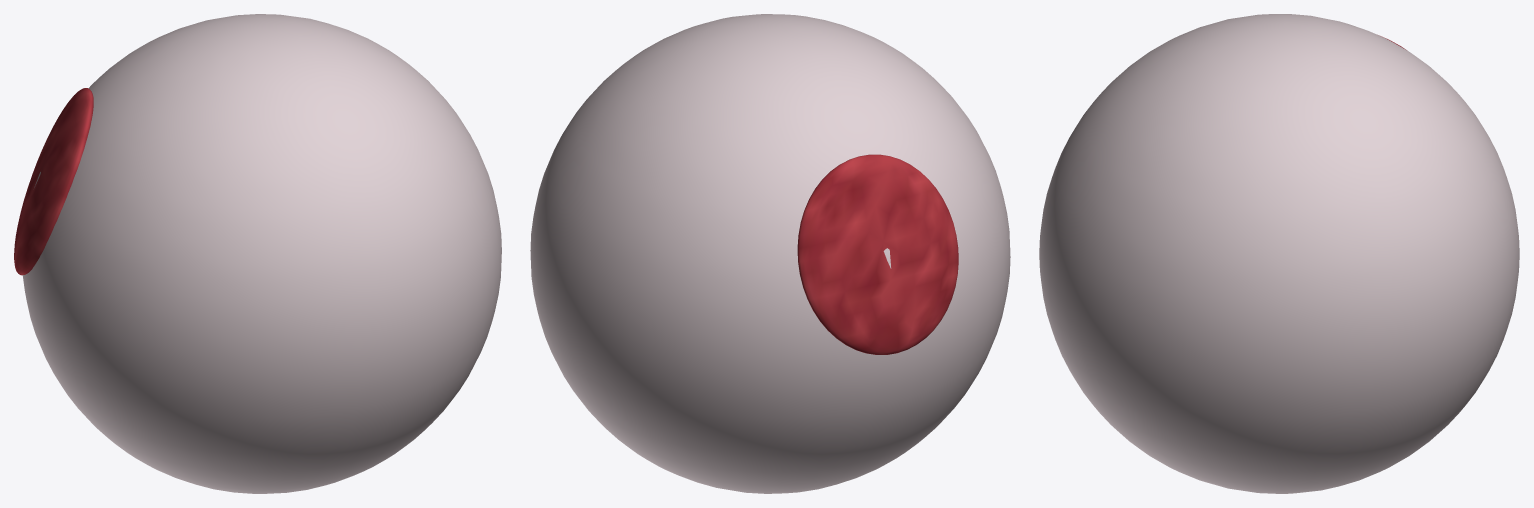
File: hafta_12.glb
3 views of the same model, side by side, from view 1: azimuth 30°, elevation 25°; view 2: azimuth 150°, elevation 25°; view 3: azimuth 270°, elevation 25° (orthographic).
Parts seen in each view (by area): view 1: Amniyon_kesesi, Plasenta; view 2: Amniyon_kesesi, Plasenta; view 3: Amniyon_kesesi.
Part boxes in pixels (x1,y1,x2,y2): Amniyon_kesesi: [22, 14, 501, 493]; Plasenta: [14, 88, 93, 275]; Amniyon_kesesi: [530, 14, 1010, 493]; Plasenta: [797, 154, 958, 354]; Amniyon_kesesi: [1039, 14, 1519, 493].
Size of the model in its own units: 1.43 by 1.43 by 1.43.
